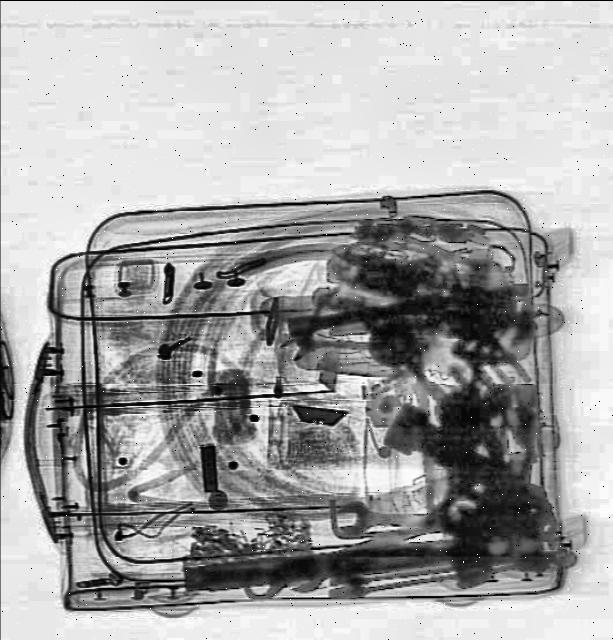Wrench: (335, 498, 433, 538)
